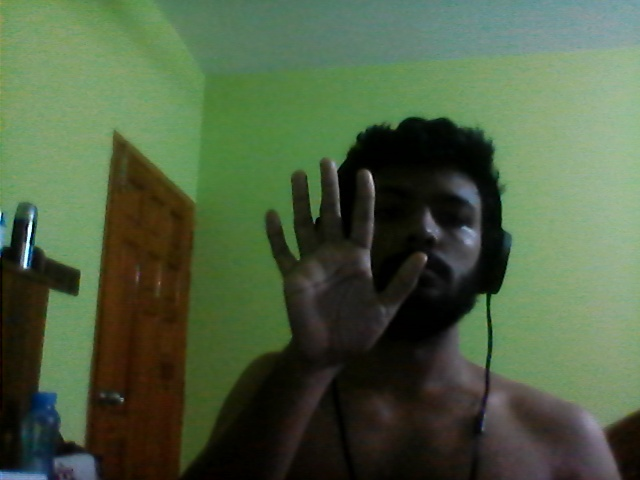Hello: (251, 145, 429, 412)
